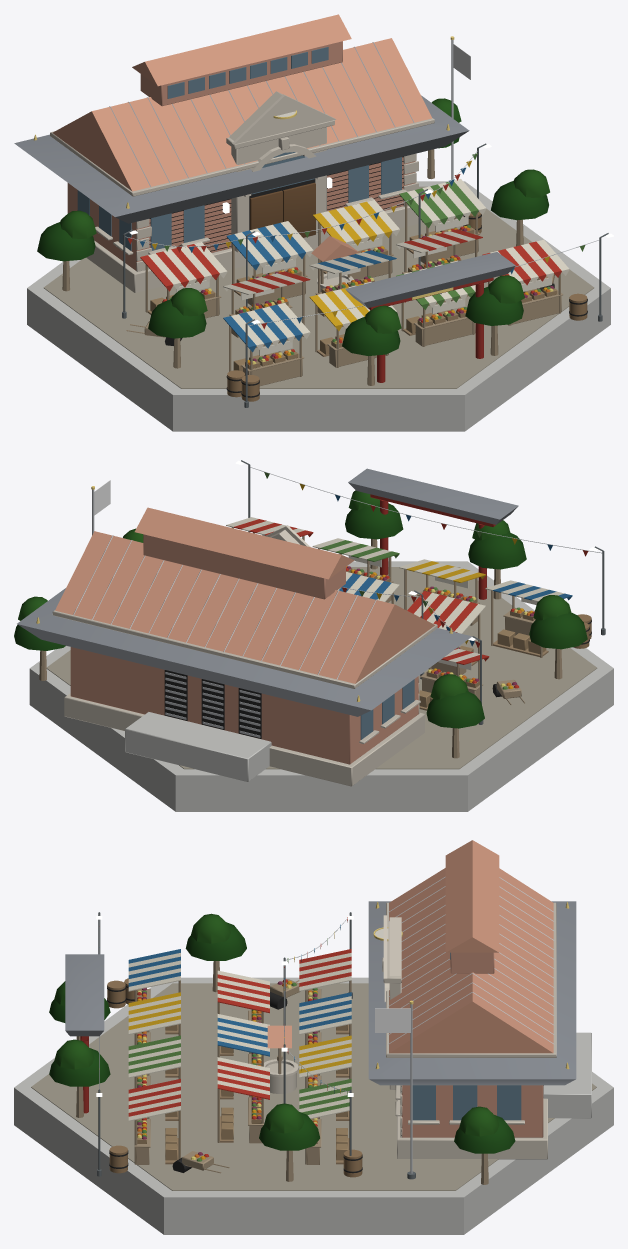
Rendered from market_asia.glb.
The picture shows the model from 3 angles, top to bottom: view 1: azimuth 30°, elevation 25°; view 2: azimuth 150°, elevation 25°; view 3: azimuth 270°, elevation 25°; orthographic projection. The views are drawn at different scales.
Parts seen in each view (by area): view 1: roof_tile, wall_concrete, pavers, paint, roof_slate, wood, stone, leaf, brick, glass, metal, dark (+1 smaller); view 2: roof_tile, wall_concrete, roof_slate, brick, pavers, leaf, paint, stone, wood, metal, dark, glass (+1 smaller); view 3: pavers, wall_concrete, roof_tile, paint, roof_slate, leaf, wood, stone, brick, metal, glass, steel_dark (+2 smaller).
Part boxes in pixels (x1,y1,x2,y2): roof_tile: (52,14,431,261); wall_concrete: (27,181,610,431); pavers: (43,186,594,388); paint: (128,111,585,382); roof_slate: (14,95,515,307); wood: (62,149,587,401); stone: (50,91,434,292); leaf: (37,98,549,355); brick: (67,41,415,270); glass: (77,47,401,250); metal: (109,40,599,325); dark: (149,155,587,397); roof_tile: (55,507,434,683); wall_concrete: (29,561,613,811); roof_slate: (17,468,518,716); brick: (70,534,418,764); pavers: (46,567,597,769); leaf: (14,490,587,728); paint: (226,472,588,689); stone: (52,525,437,786); wood: (39,527,591,758); metal: (73,467,601,737); dark: (164,619,591,738); glass: (360,679,414,739); pavers: (31,983,596,1190); wall_concrete: (14,977,613,1234); roof_tile: (267,840,553,1053); paint: (80,917,388,1161); roof_slate: (65,901,576,1085); leaf: (49,913,515,1153); wood: (76,961,488,1184); stone: (264,902,556,1159); brick: (401,952,543,1137); metal: (99,876,554,1173); glass: (412,952,521,1120); steel_dark: (97,912,415,1179).
Size of the model in its own units: 21.41 by 10.7 by 24.6.
